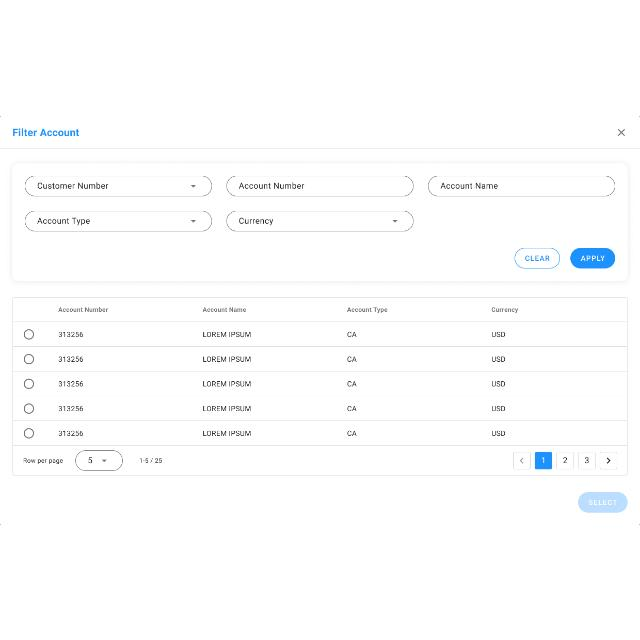QLabel: (10, 126, 80, 138), (588, 495, 618, 509), (524, 251, 552, 263), (578, 252, 606, 262)
VAppBar: (0, 115, 640, 148)
VBtn: (577, 491, 629, 514), (515, 246, 561, 268), (570, 246, 616, 268)
VCard: (11, 161, 629, 281)
VCombobox: (24, 172, 212, 195), (226, 210, 414, 232), (26, 209, 212, 231)
VDataTable: (11, 297, 628, 475)
VIcon: (614, 124, 628, 138)
VTextField: (428, 176, 616, 197), (226, 175, 414, 195)
